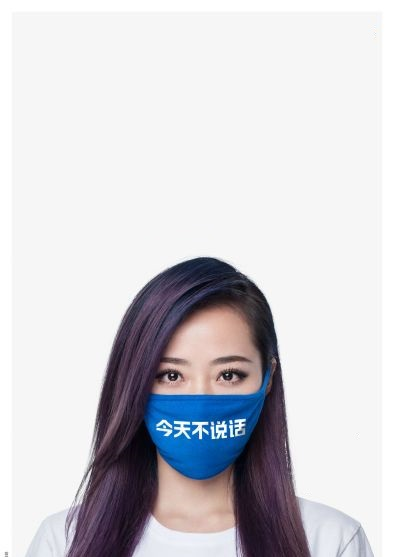face_mask: (141, 302, 264, 476)
